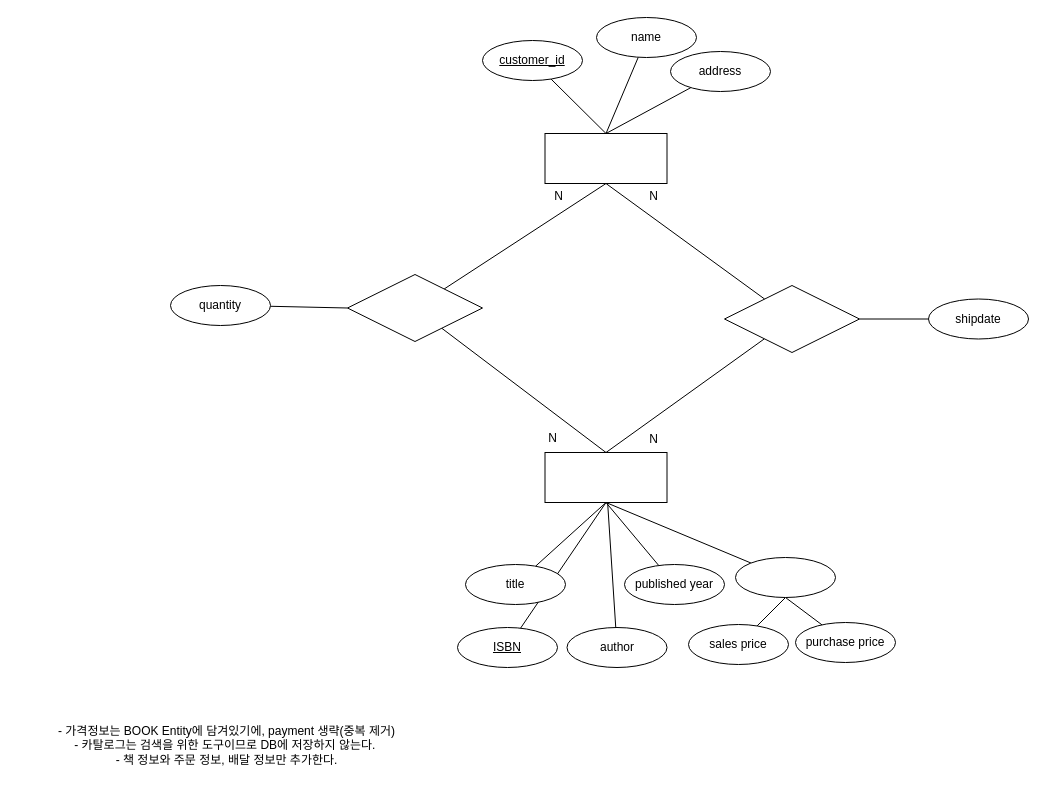
The diagram is 1046 pixels wide and 799 high, and some of its shapes have lost their labels. The shapes that lost their labels are listed below. From the top down, each one's box as (x1, y1, x2, y2) in pixels, then its label:
(544, 132, 667, 184): CUSTOMER
(346, 274, 482, 342): order
(724, 284, 860, 352): shiped
(544, 452, 667, 502): BOOK
(734, 556, 836, 598): price
